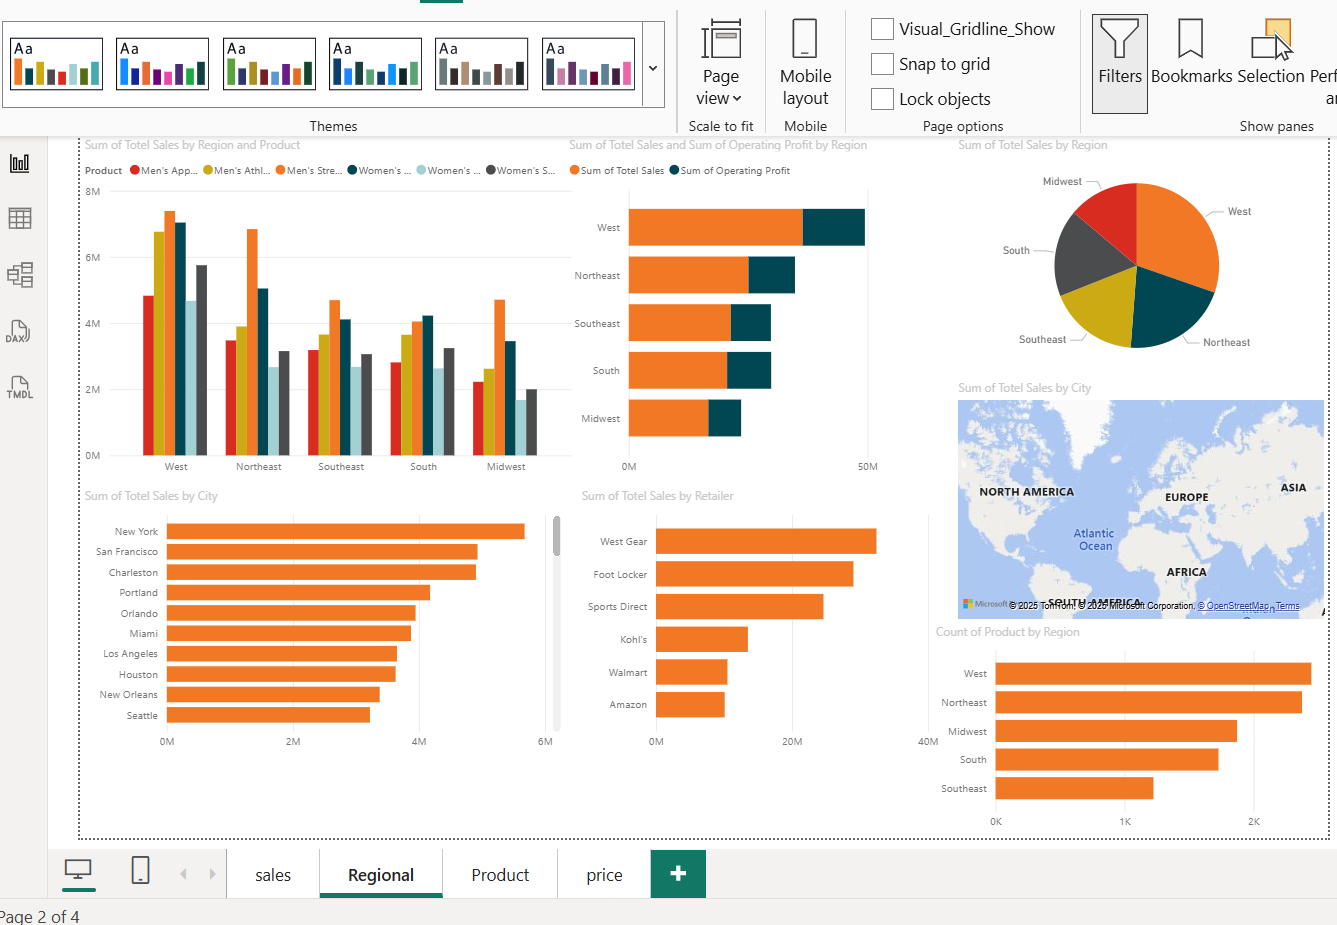

Layout of this report page (visuals, bound fields, positions):
{"tool":"powerbi","page":{"name":"Regional","canvas":[1280,720],"ordinal":1},"visuals":[{"type":"barChart","fields":{"Category":["Data Sales Adidas.City"],"Y":["Sum(Data Sales Adidas.Totel Sales)"]},"box":[0,360.6,497.8,278.3],"z":0},{"type":"clusteredColumnChart","fields":{"Category":["Data Sales Adidas.Region"],"Y":["Sum(Data Sales Adidas.Totel Sales)"],"Series":["Data Sales Adidas.Product"]},"box":[0,0,509.6,356.7],"z":1000},{"type":"barChart","fields":{"Category":["Data Sales Adidas.Region"],"Y":["Sum(Data Sales Adidas.Totel Sales)","Sum(Data Sales Adidas.Operating Profit)"]},"box":[497.1,0,375.7,357.1],"z":2000},{"type":"pieChart","fields":{"Y":["Sum(Data Sales Adidas.Totel Sales)"],"Category":["Data Sales Adidas.Region"]},"box":[895.7,0,375.7,250],"z":3000},{"type":"barChart","fields":{"Y":["Sum(Data Sales Adidas.Totel Sales)"],"Category":["Data Sales Adidas.Retailer"]},"box":[510,361,376,278],"z":4000},{"type":"filledMap","fields":{"Category":["Data Sales Adidas.City"]},"box":[895.7,250,375.7,265.7],"z":5000},{"type":"barChart","fields":{"Y":["CountNonNull(Data Sales Adidas.Product)"],"Category":["Data Sales Adidas.Region"]},"box":[872.9,500,407.1,220],"z":6000}]}

Visuals, with their boxes on the page's 1280x720 design canvas (x1, y1, x2, y2). These are canvas units, not pixel positions in the 1337x925 screenshot, which may show the page scaled, cropped or inside an application window:
barChart - Data Sales Adidas.City x Sum(Data Sales Adidas.Totel Sales): x1=0, y1=361, x2=498, y2=639
clusteredColumnChart - Data Sales Adidas.Region x Sum(Data Sales Adidas.Totel Sales): x1=0, y1=0, x2=510, y2=357
barChart - Data Sales Adidas.Region x Sum(Data Sales Adidas.Totel Sales): x1=497, y1=0, x2=873, y2=357
pieChart - Sum(Data Sales Adidas.Totel Sales) x Data Sales Adidas.Region: x1=896, y1=0, x2=1271, y2=250
barChart - Sum(Data Sales Adidas.Totel Sales) x Data Sales Adidas.Retailer: x1=510, y1=361, x2=886, y2=639
filledMap - Data Sales Adidas.City: x1=896, y1=250, x2=1271, y2=516
barChart - CountNonNull(Data Sales Adidas.Product) x Data Sales Adidas.Region: x1=873, y1=500, x2=1280, y2=720
